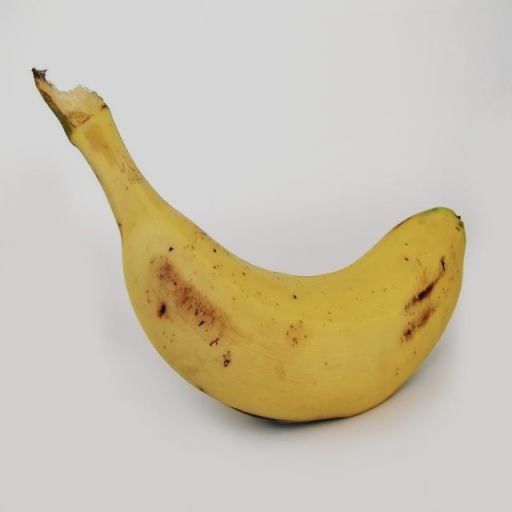fruit: (33, 70, 465, 421)
